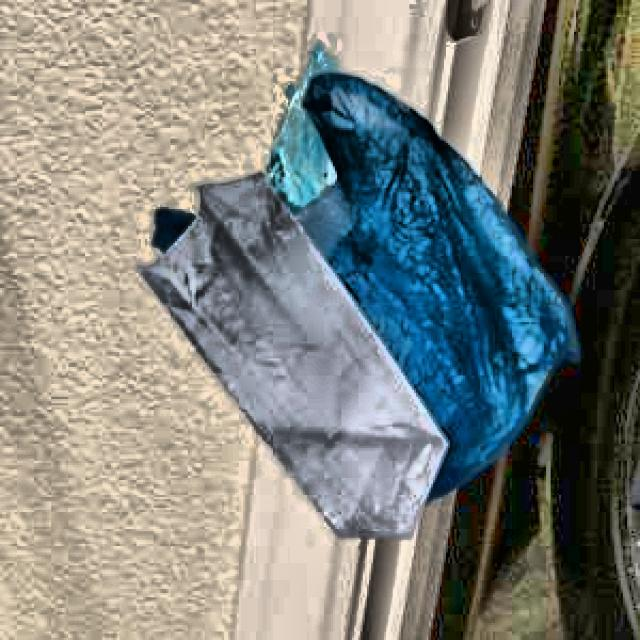Plastic: (137, 62, 569, 514), (130, 176, 452, 551)
